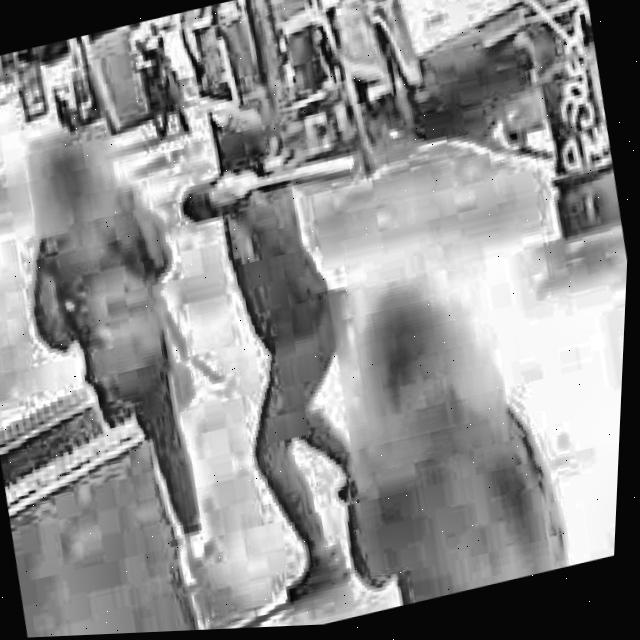robbery: (26, 90, 374, 612)
